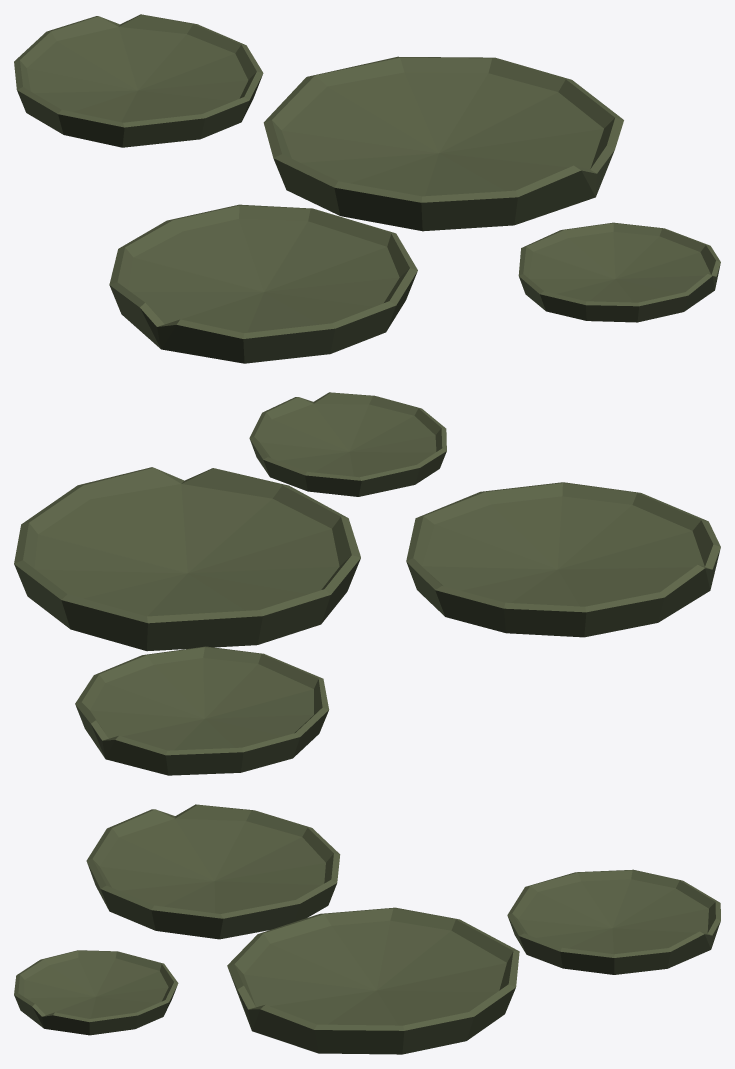
The picture shows the model from 3 angles, top to bottom: view 1: azimuth 30°, elevation 25°; view 2: azimuth 150°, elevation 25°; view 3: azimuth 270°, elevation 25°; orthographic projection. The views are drawn at different scales.
Parts seen in each view (by area): view 1: SM_Plant_Lillypad_Large_02; view 2: SM_Plant_Lillypad_Large_02; view 3: SM_Plant_Lillypad_Large_02.
Part boxes in pixels (box(x1,y1,x2,y2)): SM_Plant_Lillypad_Large_02: box(14, 14, 720, 363); SM_Plant_Lillypad_Large_02: box(14, 392, 720, 775); SM_Plant_Lillypad_Large_02: box(14, 804, 720, 1054).
Bounding box in the file's own units: 1.49 × 0.1071 × 1.97.
1 material, 1 textured.
